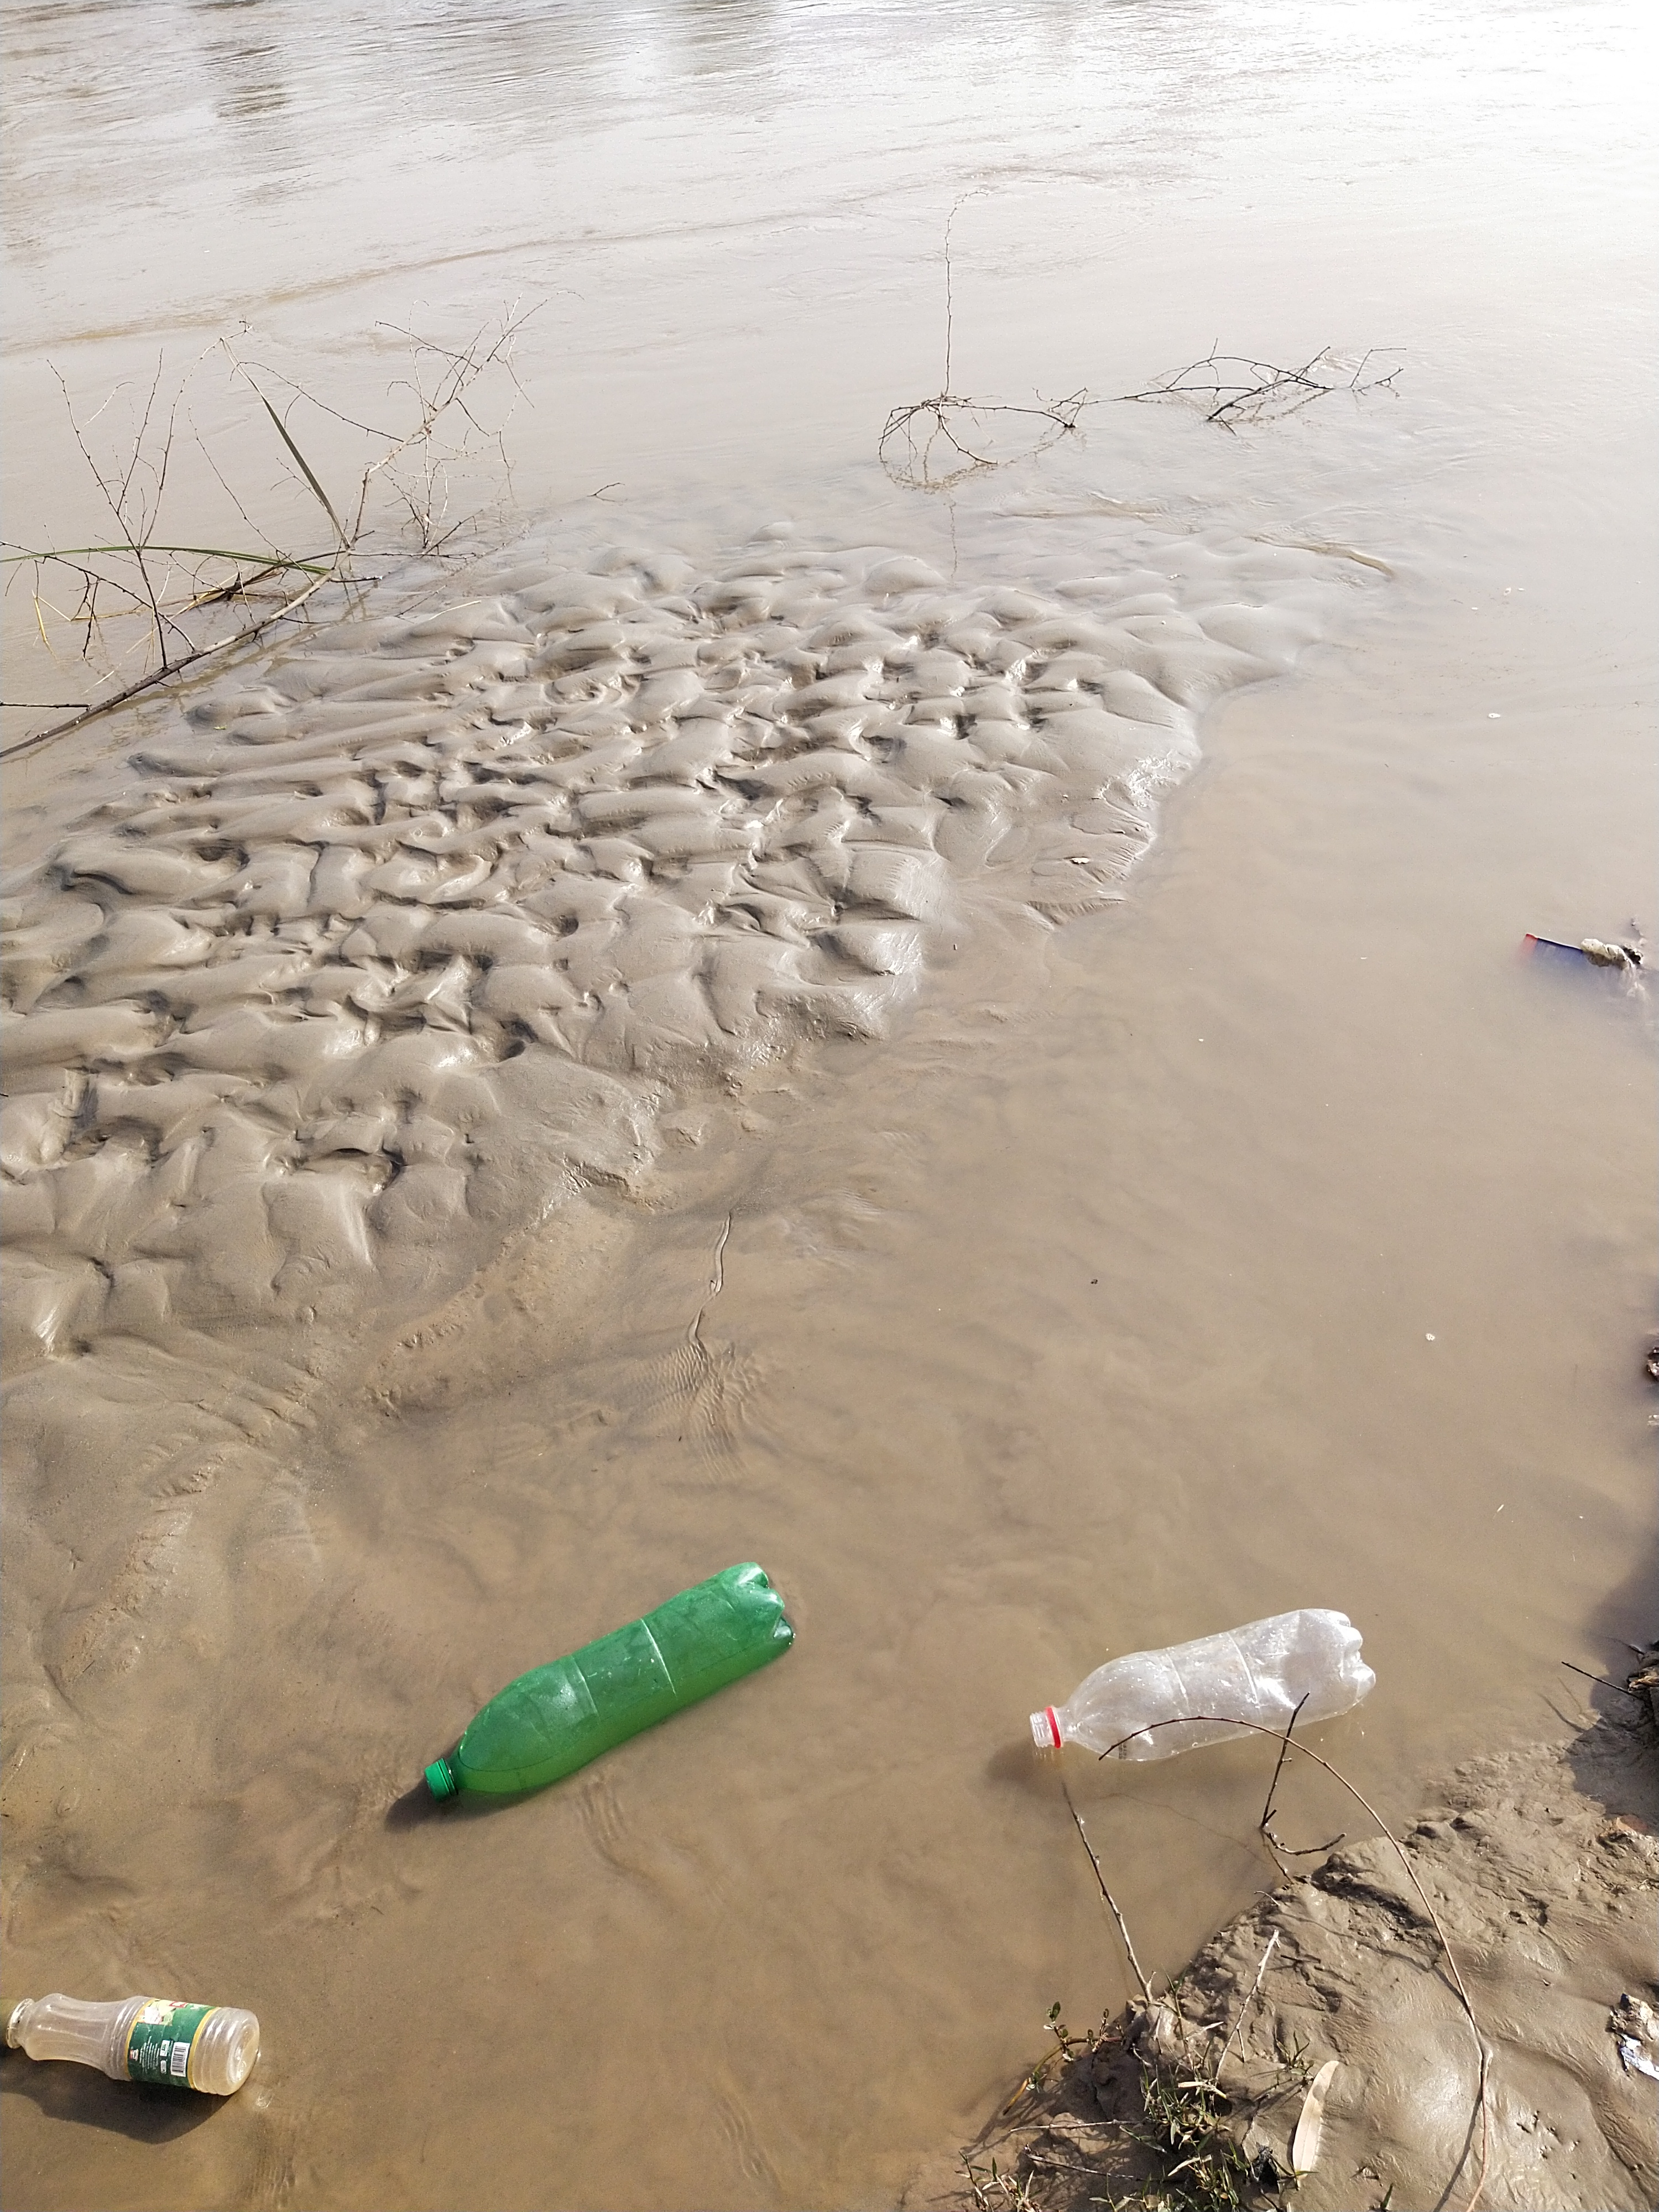Plastic Bottle: (423, 1559, 795, 1801), (1032, 1609, 1375, 1761), (0, 1991, 260, 2095)
